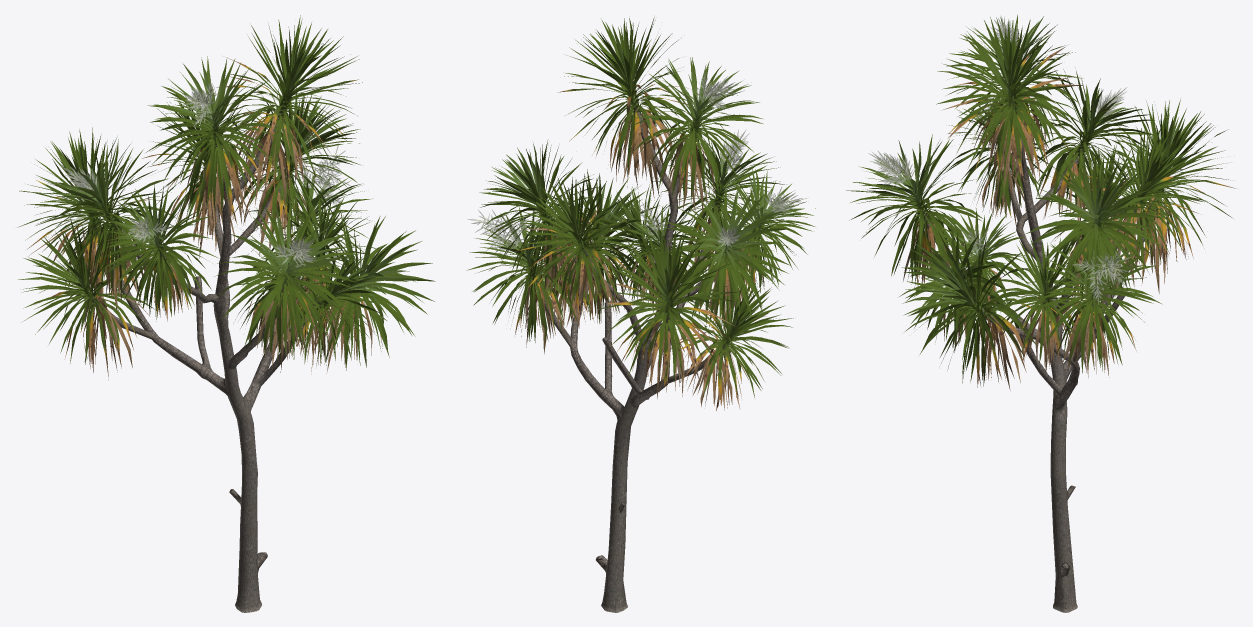
File: realistic_hd_cabbage_tree_1850.glb
3 renders of one model, left to right at view 1: azimuth 30°, elevation 25°; view 2: azimuth 150°, elevation 25°; view 3: azimuth 270°, elevation 25°, orthographic. The views are drawn at different scales.
Parts seen in each view (by area): view 1: Cordyline_australis_HD; view 2: Cordyline_australis_HD; view 3: Cordyline_australis_HD.
Part boxes in pixels (x1,y1,x2,y2): Cordyline_australis_HD: (18,15,435,612); Cordyline_australis_HD: (466,17,815,612); Cordyline_australis_HD: (846,14,1235,612).
Bounding box in the file's own units: 2.38 × 3.99 × 2.42.
Materials: 10 (10 with a texture image).
